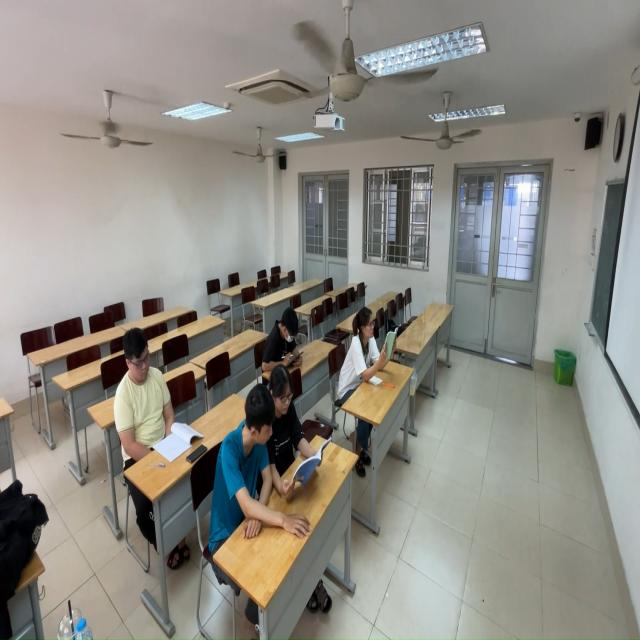read: (114, 315, 198, 472), (215, 370, 283, 554), (326, 297, 400, 404), (268, 355, 324, 489), (264, 306, 306, 368)
